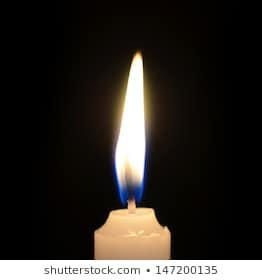fire: (111, 46, 148, 206)
